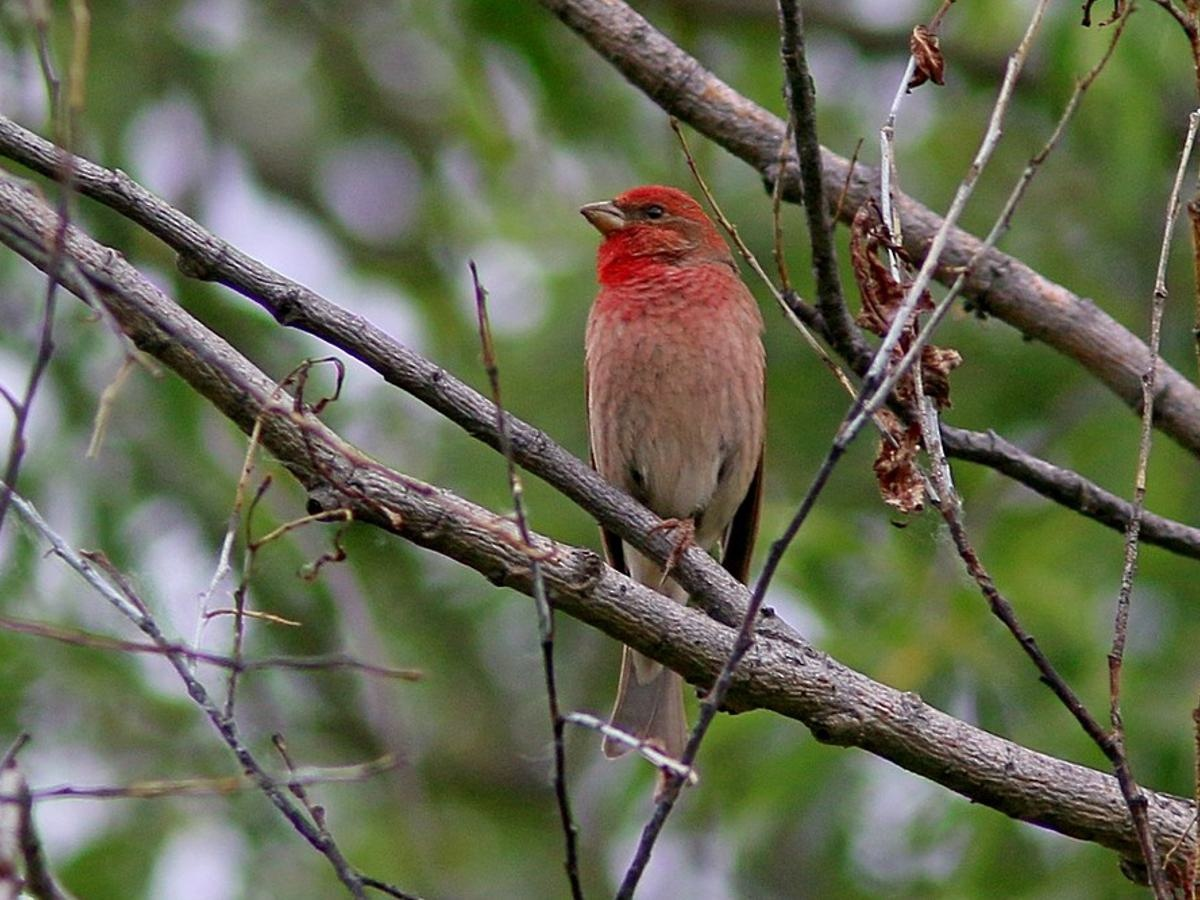rosefinch: (569, 172, 794, 575)
